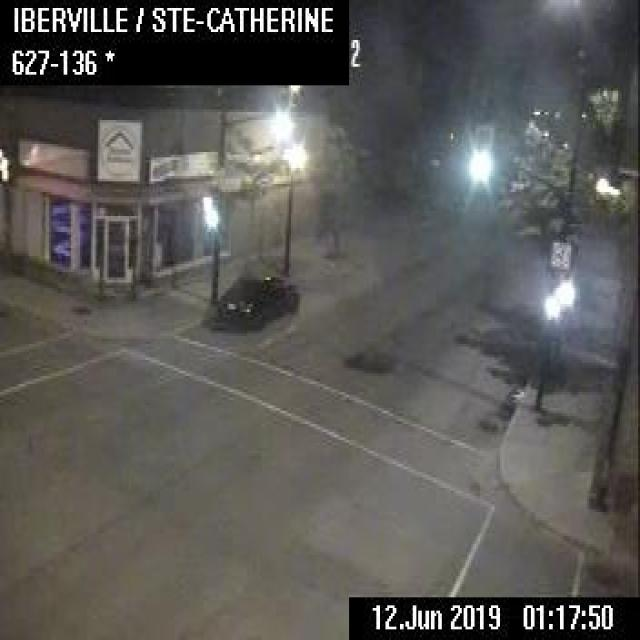vehicle: (215, 269, 296, 323)
